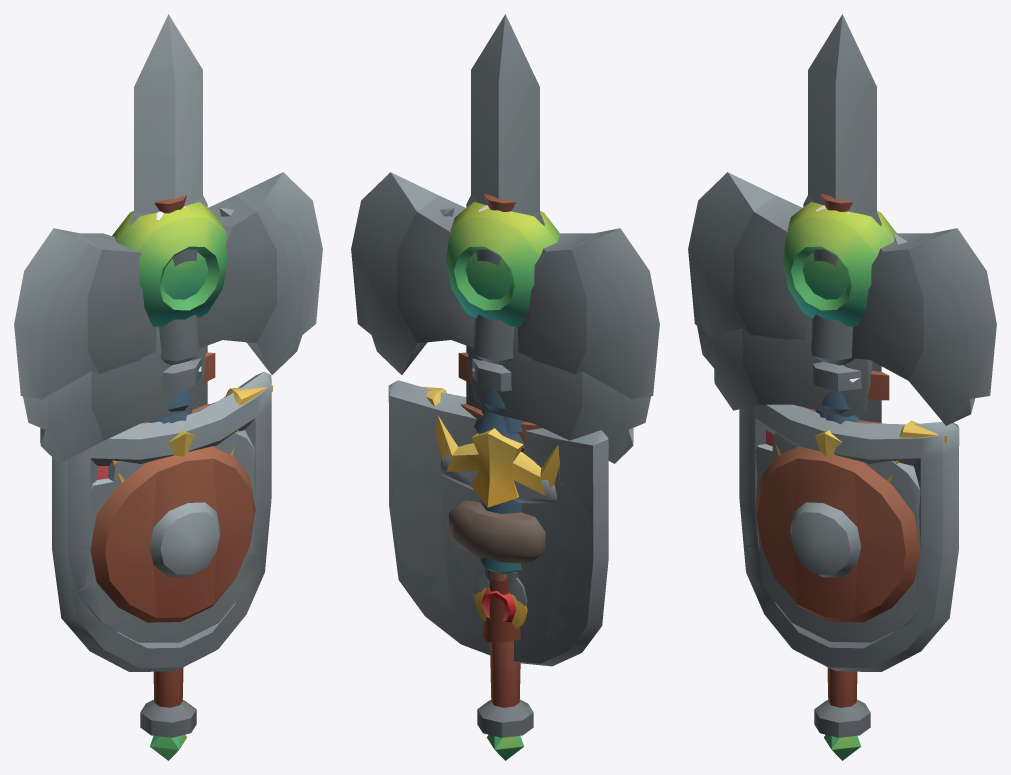
The model's file is hero_gear.glb.
3 renders of one model, left to right at view 1: azimuth 30°, elevation 25°; view 2: azimuth 150°, elevation 25°; view 3: azimuth 330°, elevation 25°, orthographic.
Visible parts, largest first — view 1: greataxe, shield, shield_badge, staff, greatsword, axe; view 2: greataxe, shield_badge, greatsword, shield, staff, axe, sword; view 3: greataxe, shield, shield_badge, staff, greatsword, axe, sword.
Part boxes in pixels (box(x1,y1,x2,y2)): greataxe: box(14, 172, 322, 423); shield: box(60, 430, 271, 642); shield_badge: box(52, 371, 271, 671); staff: box(112, 202, 233, 760); greatsword: box(111, 14, 272, 482); axe: box(23, 326, 205, 463); greataxe: box(351, 172, 659, 642); shield_badge: box(388, 380, 608, 666); greatsword: box(421, 14, 562, 629); shield: box(390, 434, 596, 635); staff: box(440, 202, 560, 760); axe: box(468, 326, 650, 463); sword: box(439, 195, 557, 606); greataxe: box(688, 172, 996, 425); shield: box(739, 432, 947, 642); shield_badge: box(739, 404, 959, 671); staff: box(782, 202, 907, 760); greatsword: box(769, 14, 946, 482); axe: box(697, 316, 872, 418); sword: box(803, 195, 881, 422).
Bounding box in the file's own units: 1.24 × 2.86 × 0.3333.
4 materials, 4 textured.
